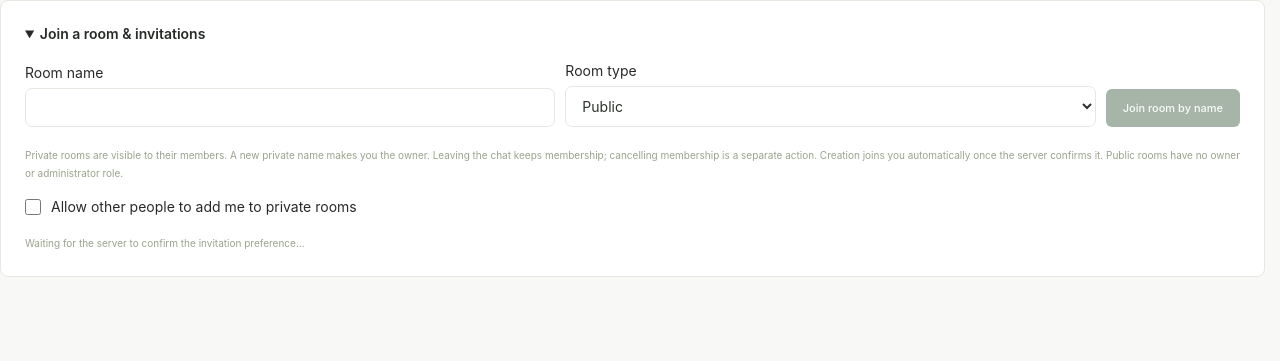
it: returns a missing confirmation to an actionable error and permits retry
This screenshot has width=1280, height=361.
In the field named "Room name to join": (290, 108) x1=25 y1=88 x2=555 y2=127, type "Club"
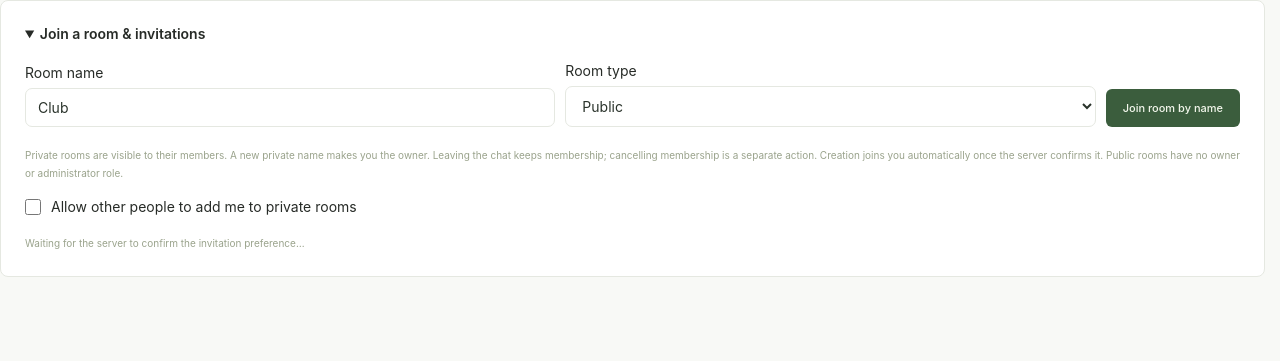
Select "Private" in the dropdown labelled "Room type": (831, 106) x1=565 y1=86 x2=1096 y2=127
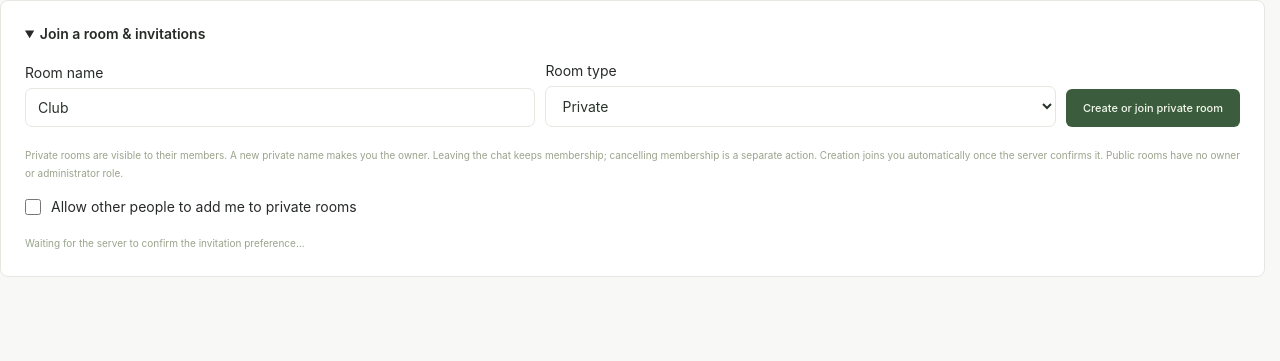
Click the button "Create or join private room": click(1153, 108) x1=1066 y1=89 x2=1240 y2=127
Wait 25000 ms
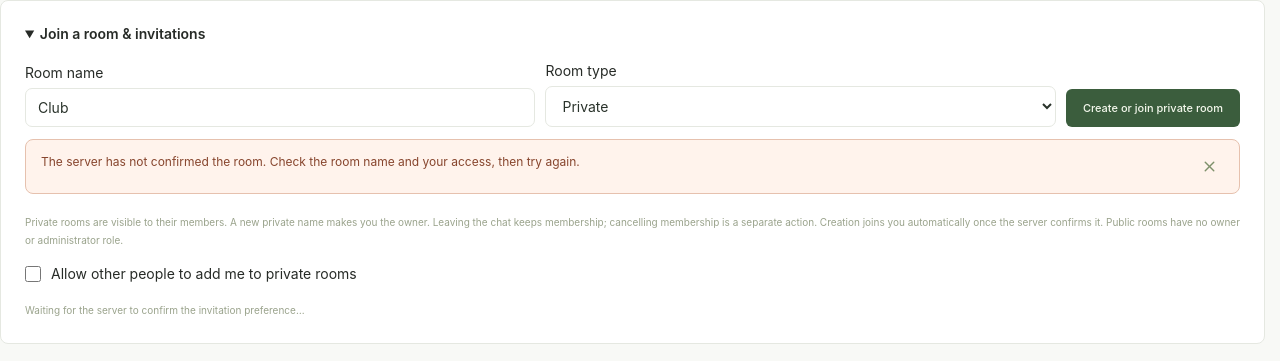
Result: the button "Create or join private room" is enabled at x1=1066 y1=89 x2=1240 y2=127
Result: the text "Check the room name and your access" is shown at x1=41 y1=154 x2=580 y2=169
